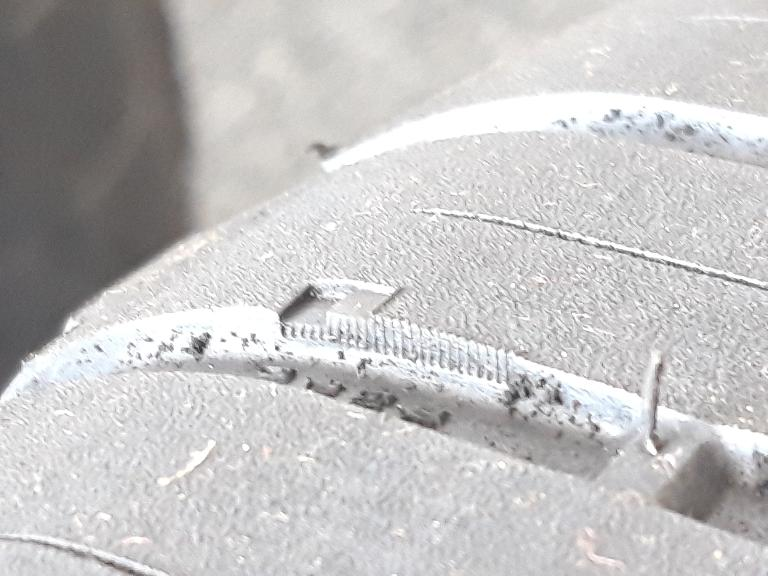temoin:25: (266, 269, 412, 368)
